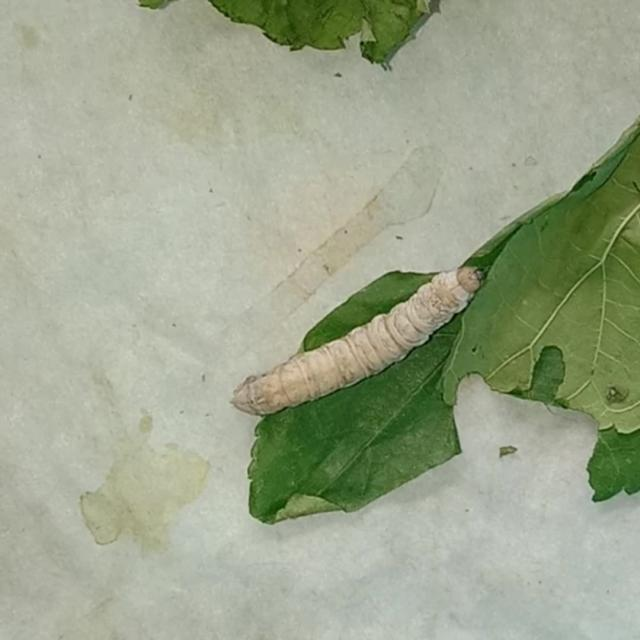Grasserie: (228, 243, 494, 429)
